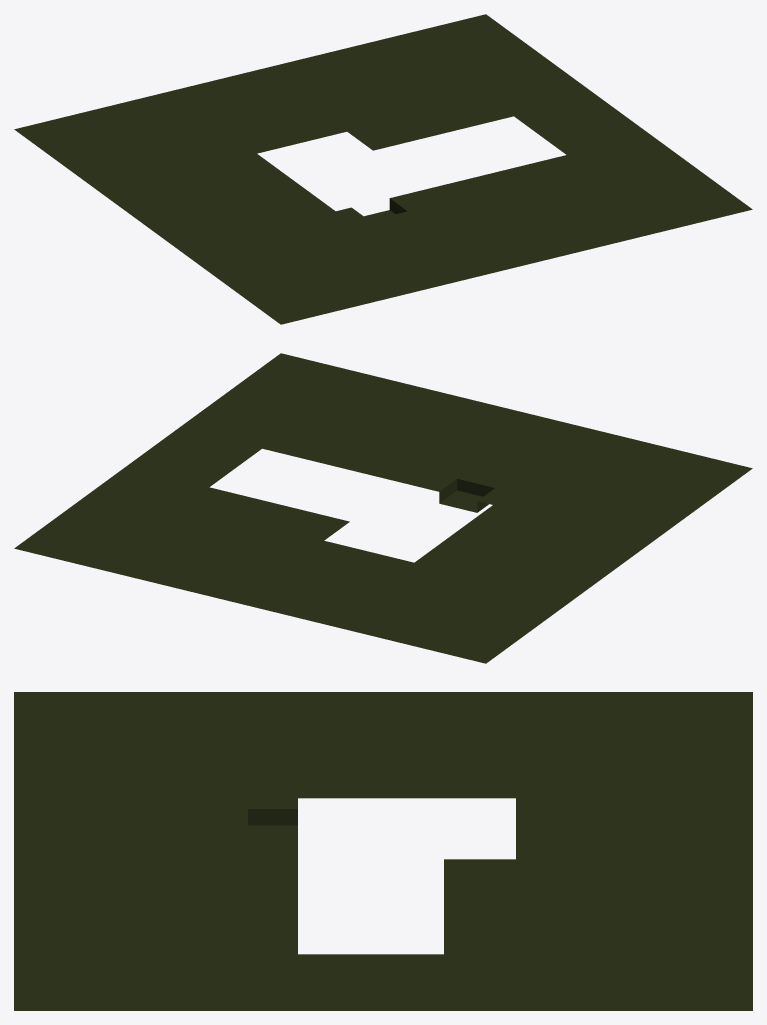
Rendered from Ground.fbx.
3 views of the same model, one above another, from view 1: azimuth 30°, elevation 25°; view 2: azimuth 150°, elevation 25°; view 3: azimuth 270°, elevation 25° (orthographic). The views are drawn at different scales.
Parts seen in each view (by area): view 1: Plane002; view 2: Plane002; view 3: Plane002.
Part boxes in pixels (bbox=[...]): Plane002: bbox=[14, 14, 752, 324]; Plane002: bbox=[14, 353, 752, 663]; Plane002: bbox=[14, 692, 752, 1010].
Size of the model in its own units: 2744 by 65.59 by 2688.
